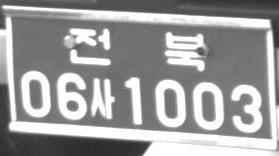0: (19, 69, 51, 118), (154, 78, 186, 127), (192, 81, 224, 130)
1: (119, 75, 148, 124)
3: (230, 84, 263, 133)
6: (55, 72, 87, 120)
사: (88, 77, 115, 119)
전북_D: (68, 27, 205, 72)
